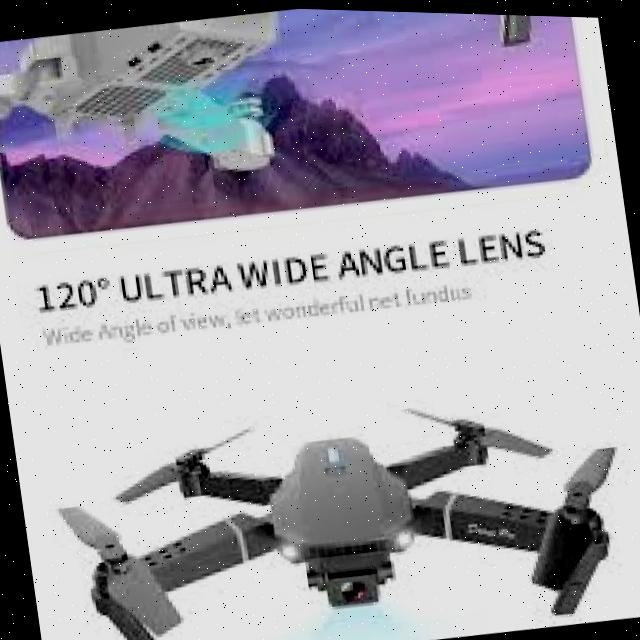drone: (35, 340, 640, 640)
